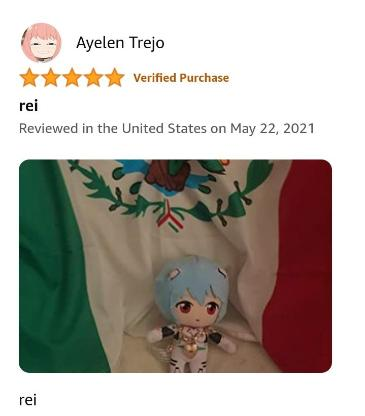rei-plush: (150, 257, 239, 379)
